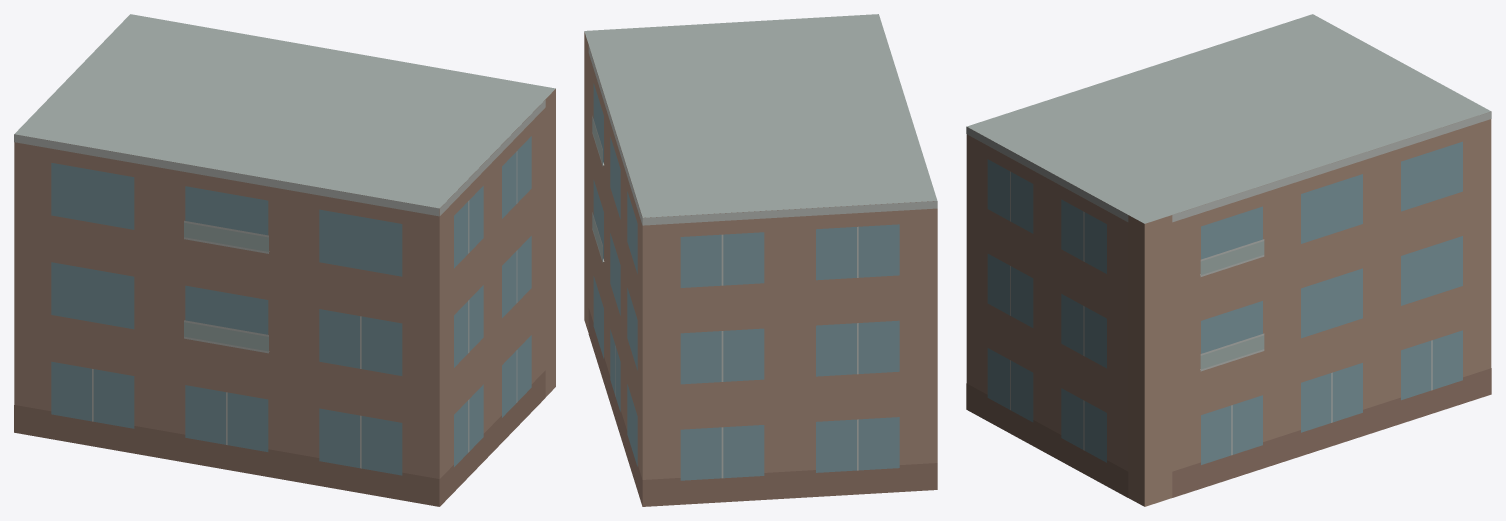
Rendered from survey-upis-32825648.glb.
The picture shows the model from 3 angles, left to right: view 1: azimuth 30°, elevation 25°; view 2: azimuth 150°, elevation 25°; view 3: azimuth 270°, elevation 25°; orthographic projection. The views are drawn at different scales.
Visible parts, largest first — view 1: survey-upis-32825648.tmp; view 2: survey-upis-32825648.tmp; view 3: survey-upis-32825648.tmp.
Boxes of the visible parts, box(x1,y1,x2,y2) form: survey-upis-32825648.tmp: box(14, 14, 555, 506); survey-upis-32825648.tmp: box(584, 14, 937, 506); survey-upis-32825648.tmp: box(966, 14, 1491, 506).
Bounding box in the file's own units: 14.55 × 9.15 × 15.38.
